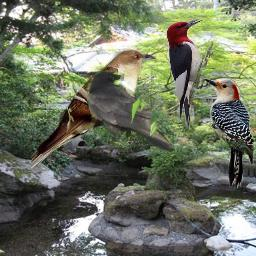Crow: (87, 71, 177, 152)
Cuckoo: (31, 48, 157, 170)
Woodpecker: (203, 78, 254, 188), (166, 18, 213, 130)
